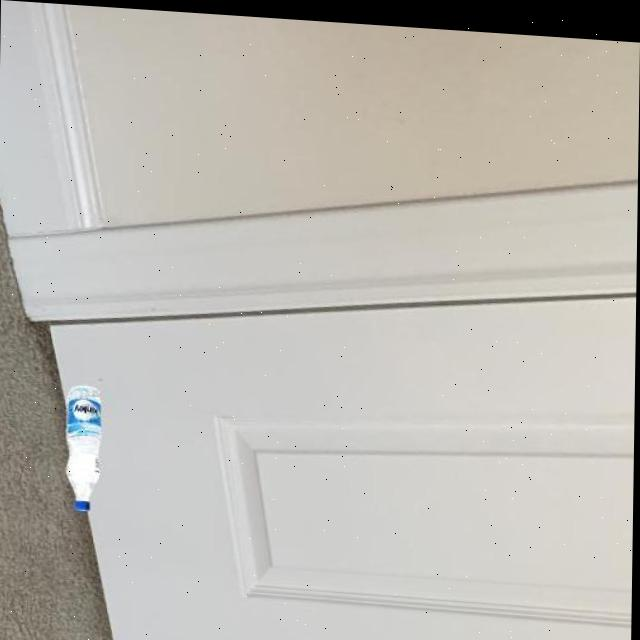bottle: (64, 381, 106, 511)
